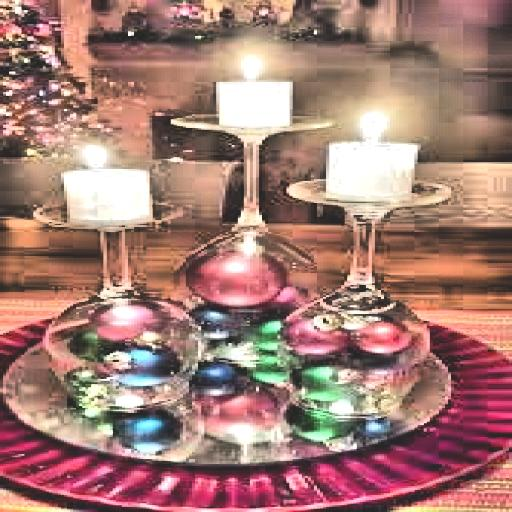fire: (344, 107, 396, 147), (229, 51, 274, 84), (70, 142, 122, 167)
